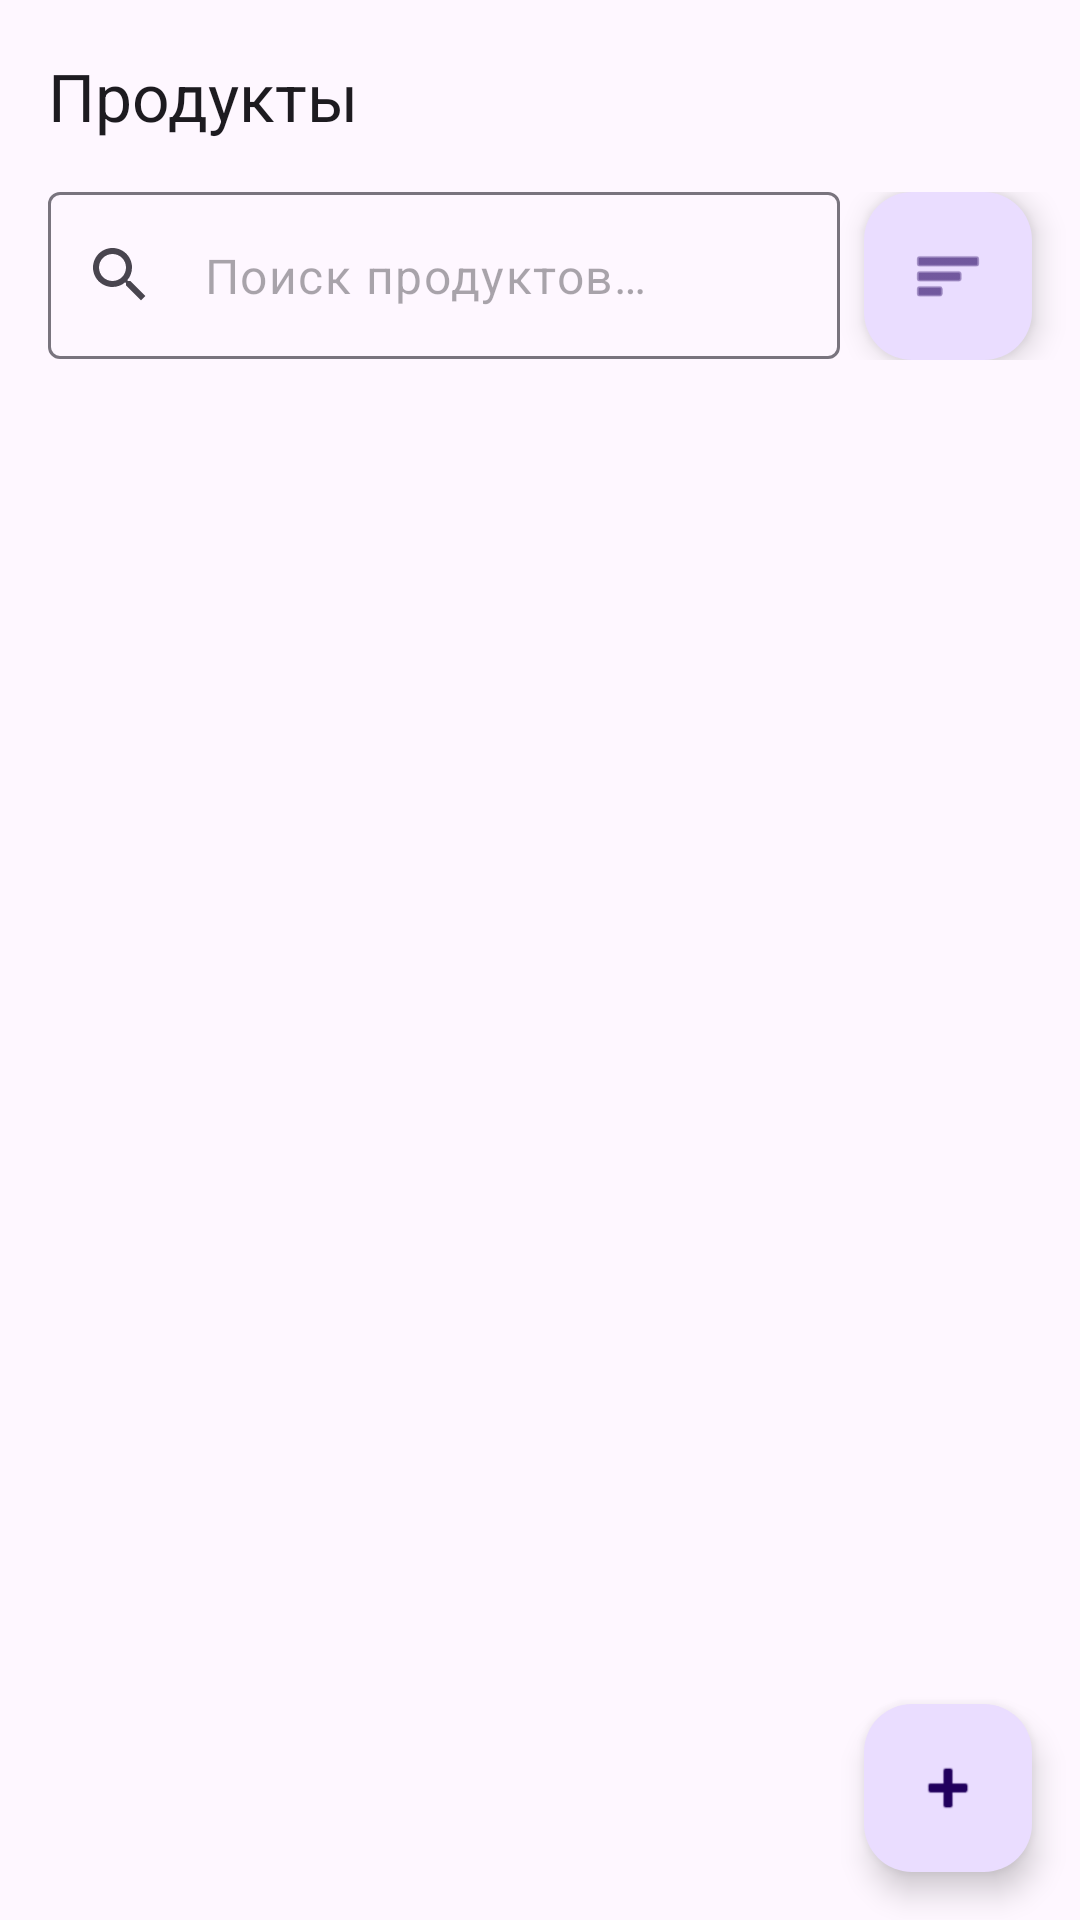

Named icons in this screenshot (1080 x 1920) and their bounding boxes, (x1,y1,x2,y2):
Добавить продукт: (864,1704,1032,1872)
Сортировка и фильтры: (864,192,1032,360)
